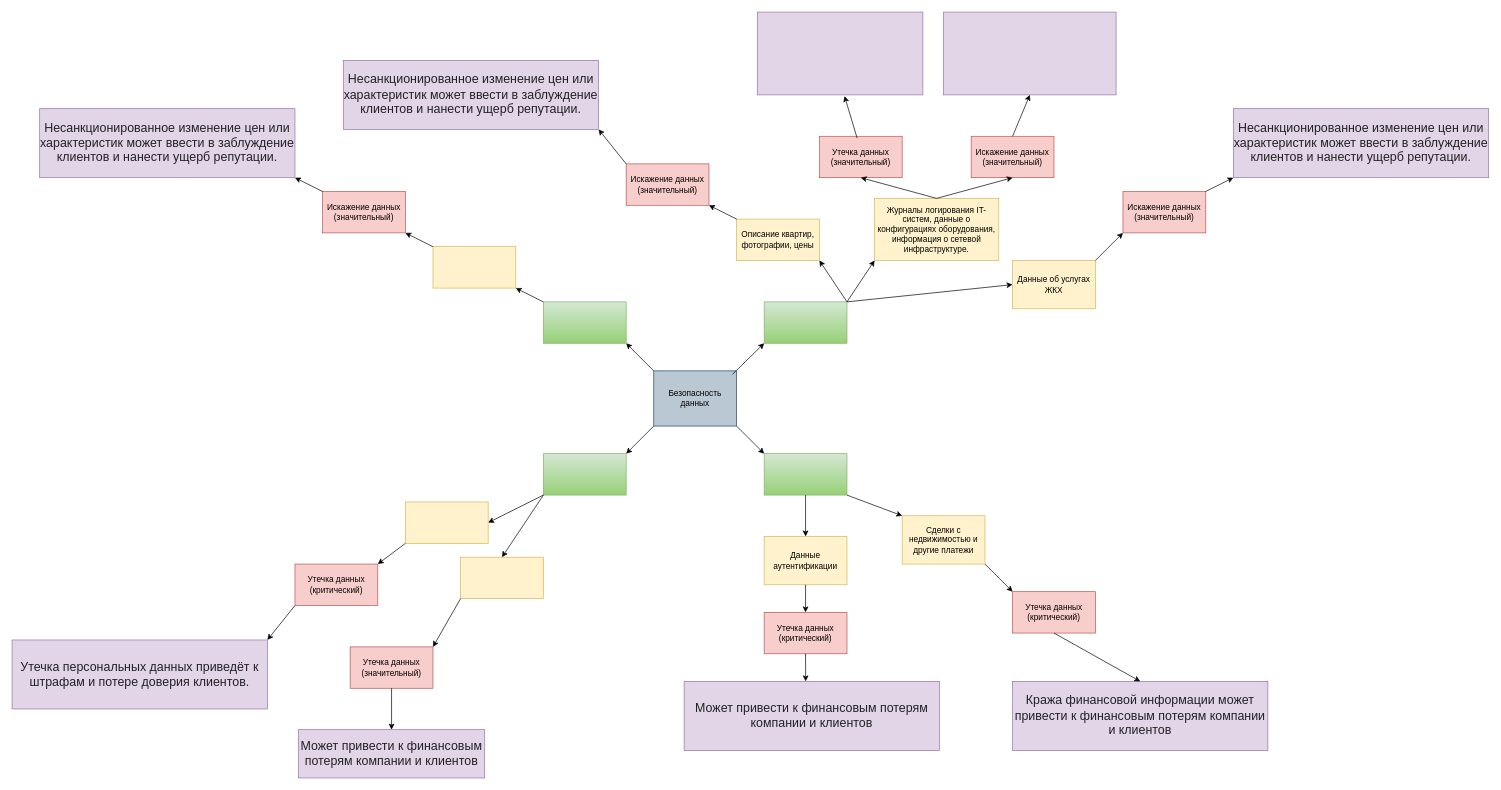
Image size: 1501x790. Some labels were removed from this diagram. The shapes that lost their labels are listed below. From the top down, each one's centre as x and y in pixels, then its label:
(x=840, y=53): Облегчит кибератаки на инфраструктуру
(x=1029, y=53): Несанкционированный доступ к логам может скрыть следы инцидентов безопасности.
(x=474, y=267): данные c онлайн-витрины
(x=584, y=322): публичные данные
(x=805, y=322): внутренние данные
(x=584, y=474): конфиденциальные данные
(x=805, y=474): секретные данные
(x=446, y=522): Персональные данные собственников и клиентов
(x=501, y=577): данные по расчетам с ЖКХ
